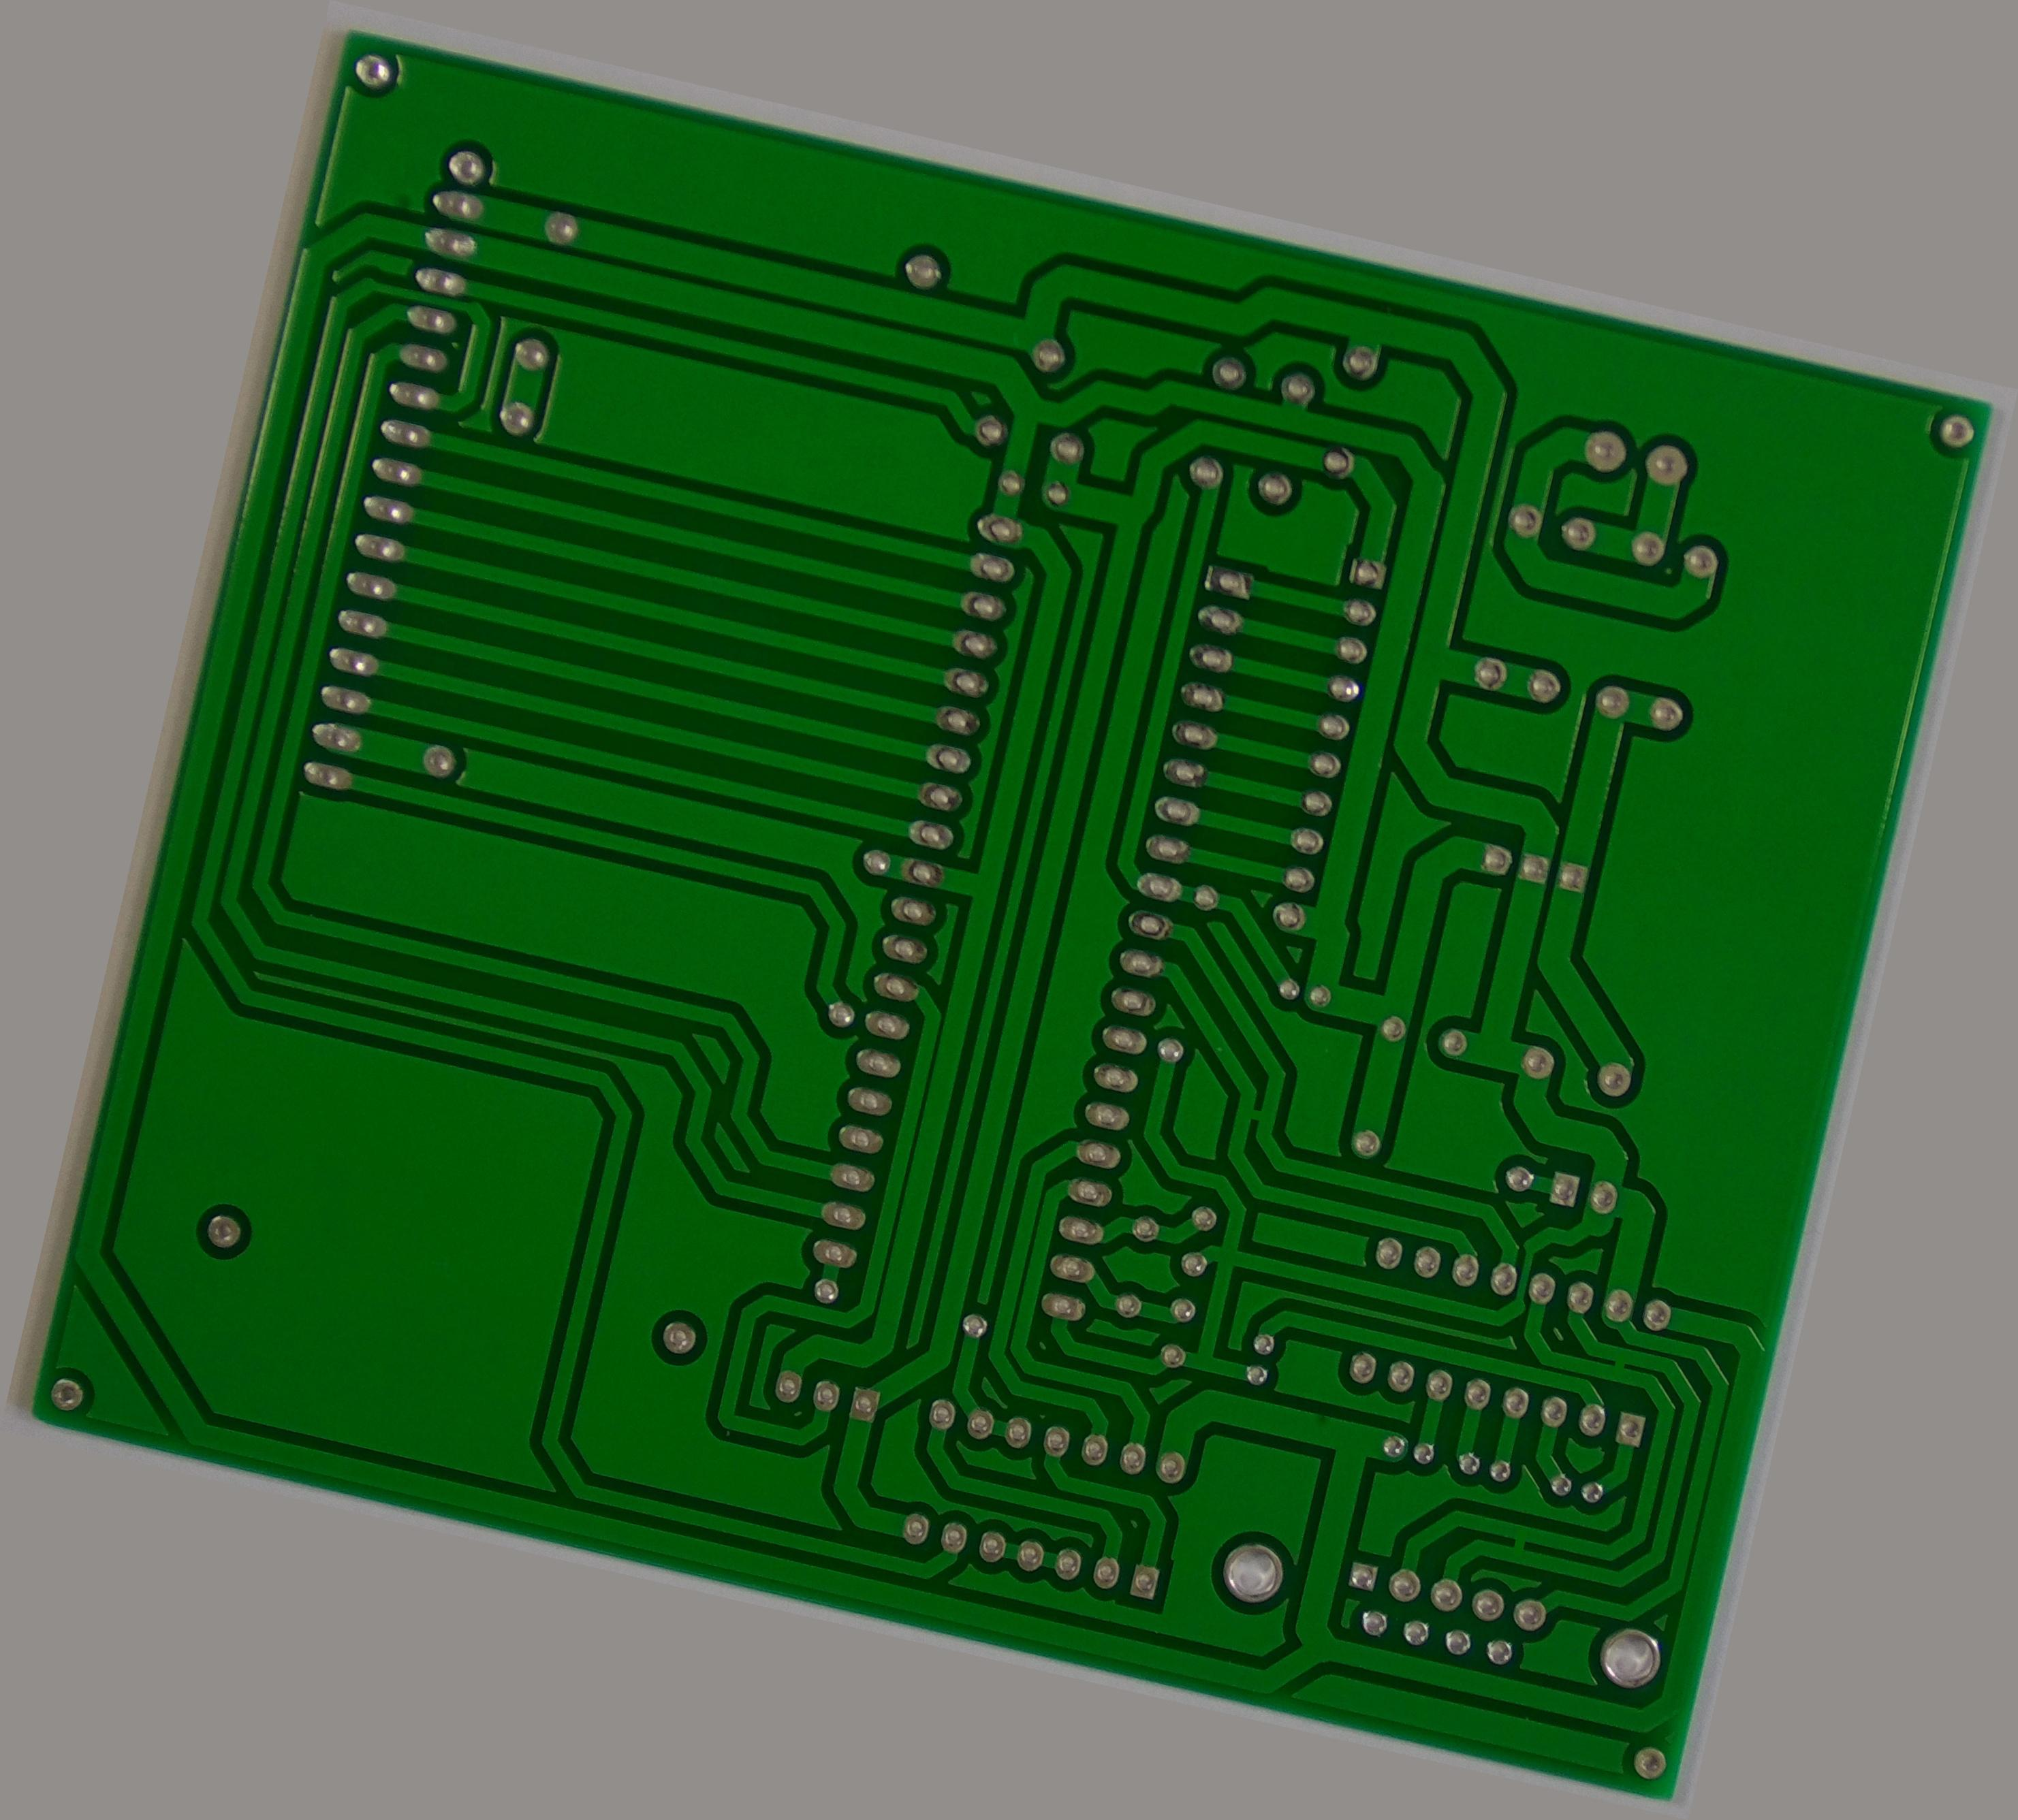short: (1480, 1509, 1554, 1579), (1223, 1080, 1285, 1144), (1594, 1335, 1649, 1386)
